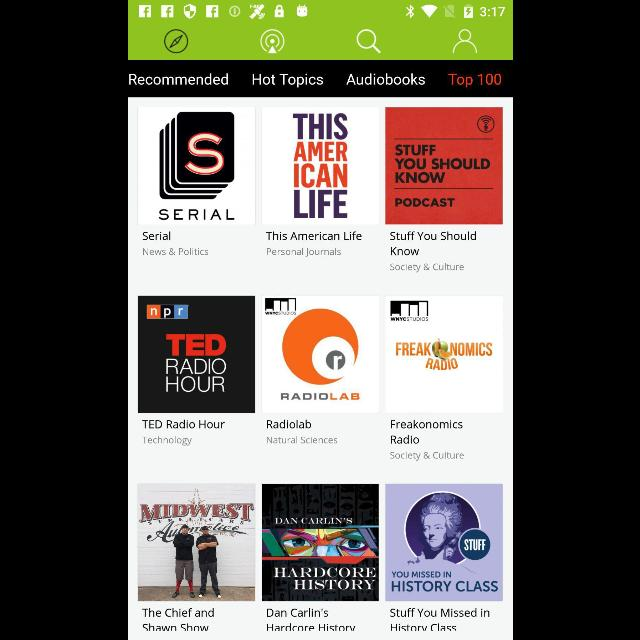icon: (452, 30, 476, 54), (356, 30, 380, 54), (163, 30, 187, 54)
image: (384, 483, 502, 601), (137, 483, 255, 601), (384, 296, 502, 414), (260, 295, 378, 413), (137, 107, 255, 225), (384, 108, 502, 225), (261, 108, 379, 225), (262, 484, 378, 602), (136, 296, 254, 412), (260, 30, 284, 54)
text: (389, 608, 488, 630), (389, 232, 475, 256), (267, 608, 355, 630), (390, 420, 462, 444), (142, 608, 214, 630), (128, 74, 228, 86), (252, 74, 322, 88), (346, 73, 424, 85), (265, 232, 361, 240), (142, 419, 225, 428), (448, 74, 500, 88), (389, 452, 463, 461), (389, 264, 463, 272), (266, 248, 340, 256), (266, 436, 336, 444), (142, 248, 208, 256), (141, 436, 191, 446), (266, 419, 310, 428), (142, 232, 170, 240)
uppertaskbar: (128, 1, 512, 23)
